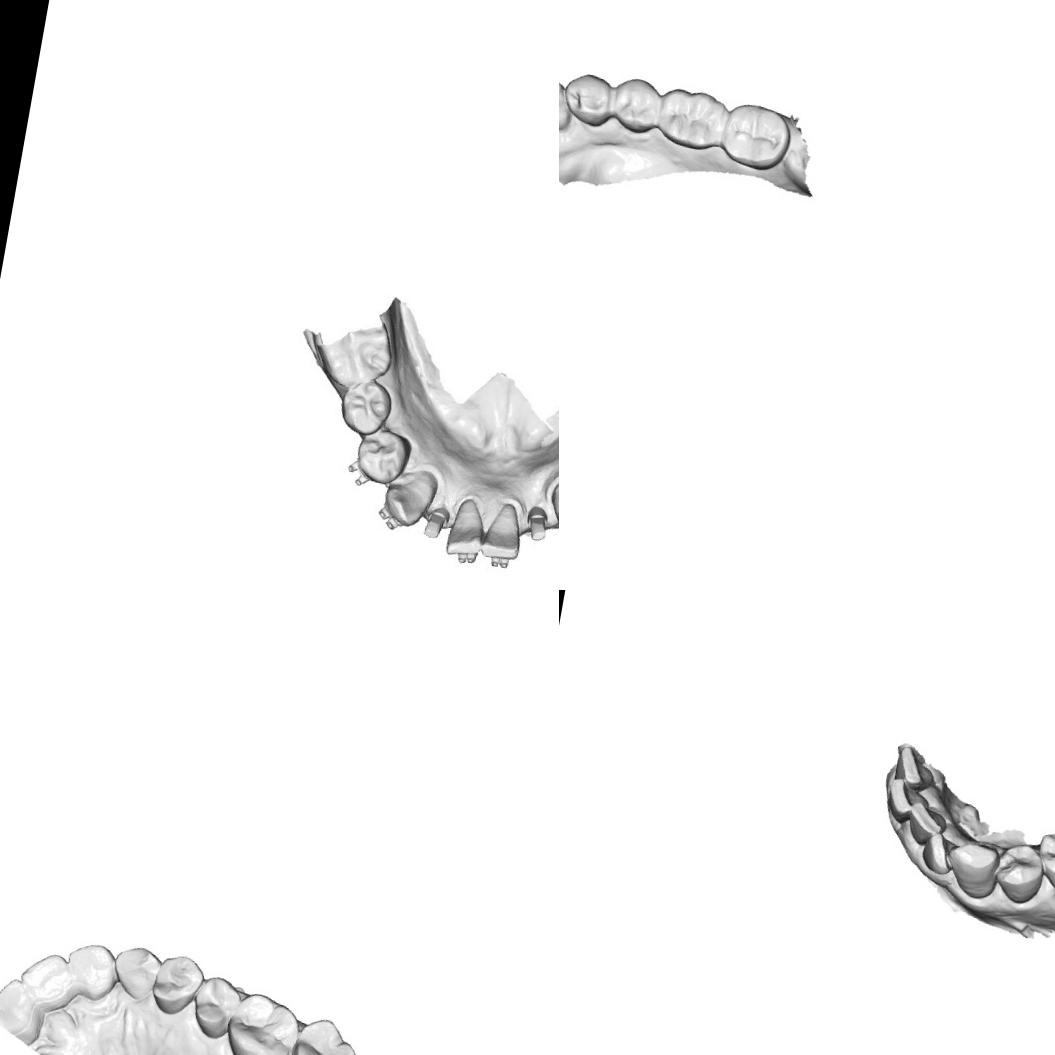abutment: (522, 498, 552, 546), (418, 500, 449, 545)
canine: (374, 460, 439, 536), (941, 836, 1002, 902), (108, 942, 164, 1003), (542, 473, 559, 539), (559, 73, 576, 133)
incisor: (14, 948, 81, 1016), (61, 938, 122, 1002), (476, 500, 529, 565), (439, 494, 489, 560), (882, 774, 929, 826), (890, 744, 938, 793), (902, 798, 949, 848), (918, 829, 962, 877)
molar: (305, 312, 397, 404), (716, 98, 796, 174), (219, 987, 304, 1055), (651, 82, 730, 154), (278, 1011, 364, 1055)
premolar: (989, 838, 1048, 908), (186, 971, 244, 1042), (147, 950, 206, 1019), (336, 372, 395, 439), (348, 426, 410, 488), (605, 72, 664, 137), (559, 67, 616, 129), (1030, 825, 1055, 898)
